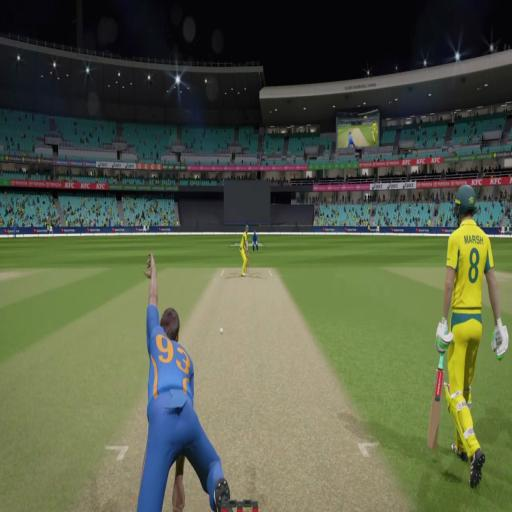ball: (218, 321, 223, 338)
